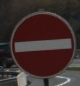No entry: (8, 8, 73, 78)
